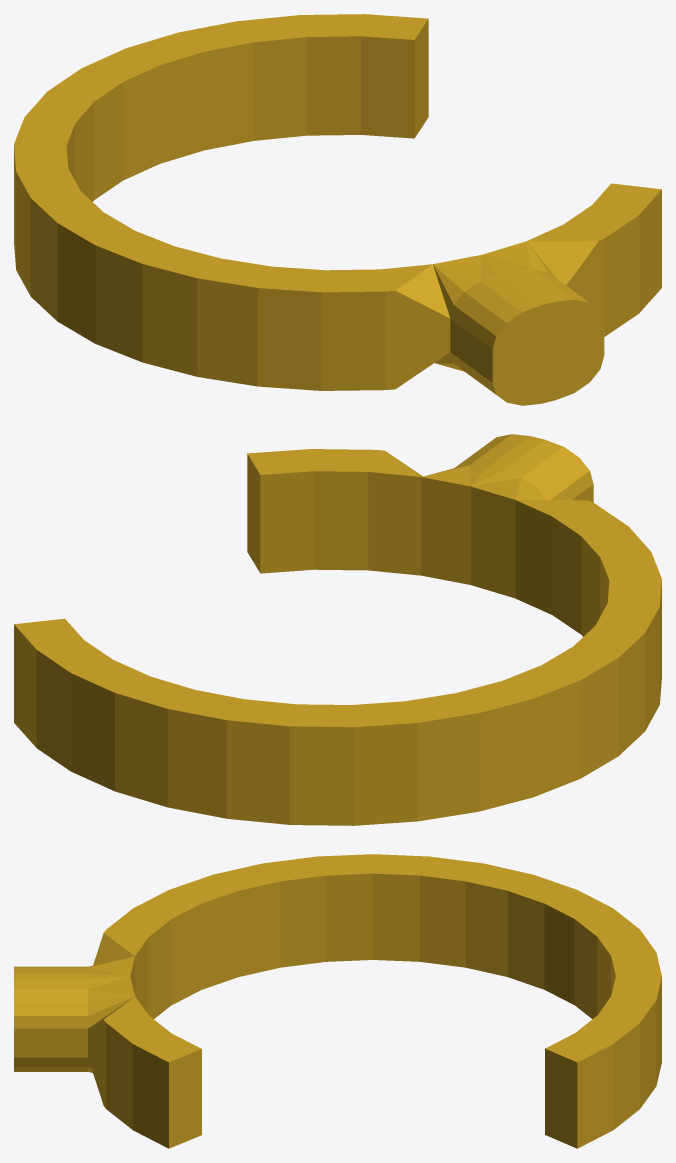
File: VIS_ElbowInterface.dae
3 renders of one model, top to bottom at view 1: azimuth 30°, elevation 25°; view 2: azimuth 150°, elevation 25°; view 3: azimuth 270°, elevation 25°, orthographic. The views are drawn at different scales.
Visible parts, largest first — view 1: VIS_ElbowInterface; view 2: VIS_ElbowInterface; view 3: VIS_ElbowInterface.
Boxes of the visible parts, x1,y1,x2,y2 form: VIS_ElbowInterface: (14, 14, 661, 405); VIS_ElbowInterface: (14, 434, 661, 825); VIS_ElbowInterface: (14, 854, 661, 1148).
Size of the model in its own units: 0.0607 by 0.0798 by 0.0117.
